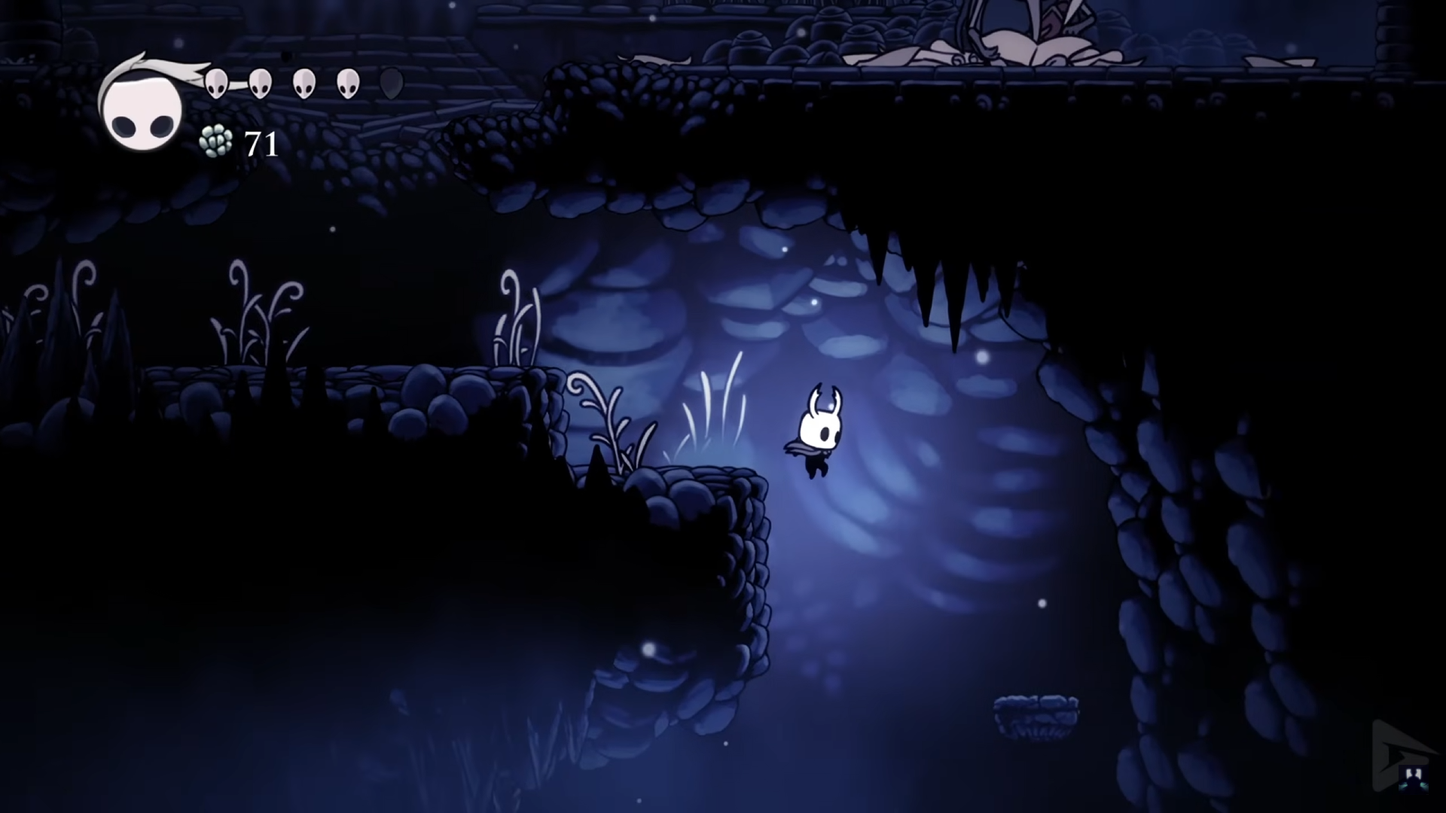HK: (786, 381, 847, 482)
